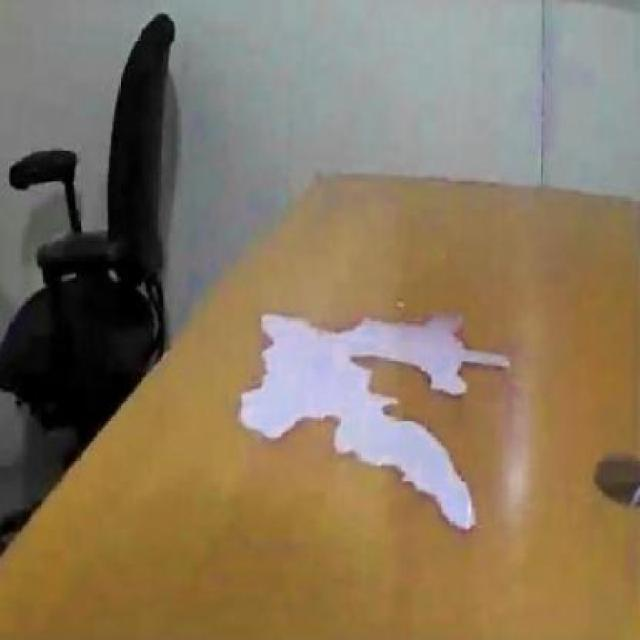spillage: (240, 323, 510, 531)
